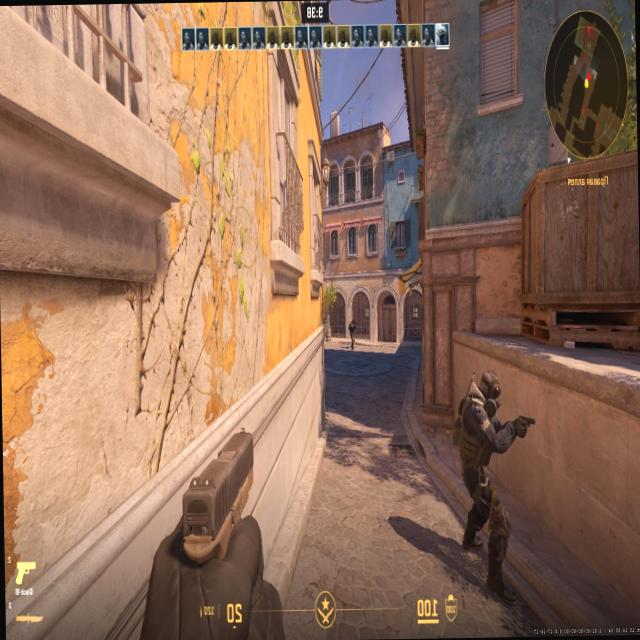CT: (468, 376, 498, 548), (348, 322, 354, 346)
CT_heat: (477, 373, 492, 406), (351, 321, 353, 325)
